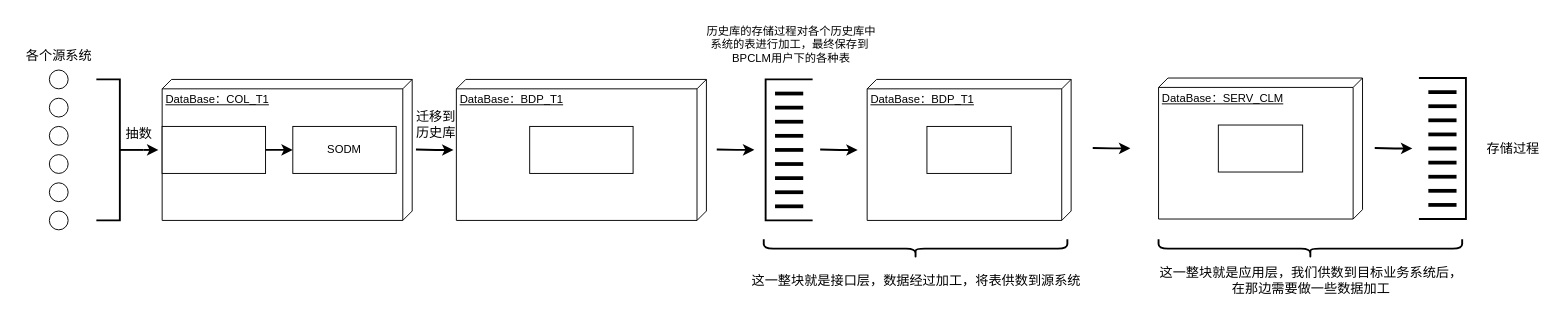
Image size: 1566x320. Some labels were removed from this diagram. Each missing label, with the centre of its shape:
"BPCLM" belongs at [968,149].
"HDM" belongs at [581,149].
"ODM" belongs at [213,149].
"USER_CLM" belongs at [1260,148].
